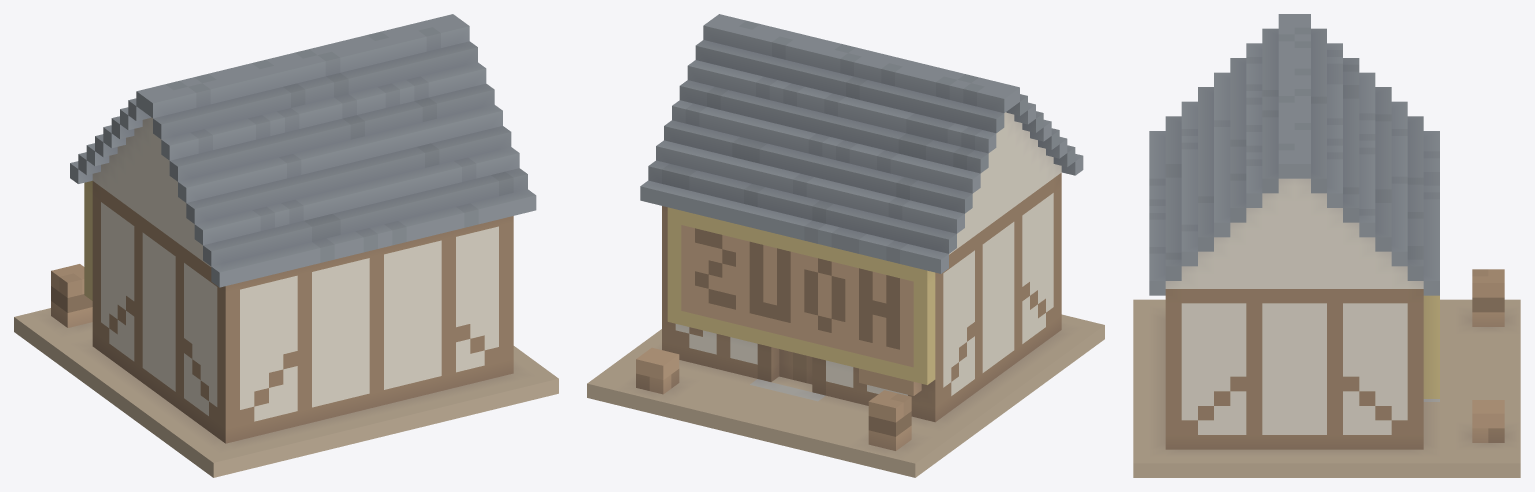
The model's file is house_patricians.glb.
3 renders of one model, left to right at view 1: azimuth 30°, elevation 25°; view 2: azimuth 150°, elevation 25°; view 3: azimuth 270°, elevation 25°, orthographic. The views are drawn at different scales.
Visible parts, largest first — view 1: house_patricians; view 2: house_patricians; view 3: house_patricians.
Part boxes in pixels (x1=…): house_patricians: x1=14, y1=14, x2=558, y2=477; house_patricians: x1=587, y1=14, x2=1104, y2=477; house_patricians: x1=1133, y1=14, x2=1520, y2=477.
Bounding box in the file's own units: 3 × 2.62 × 3.
